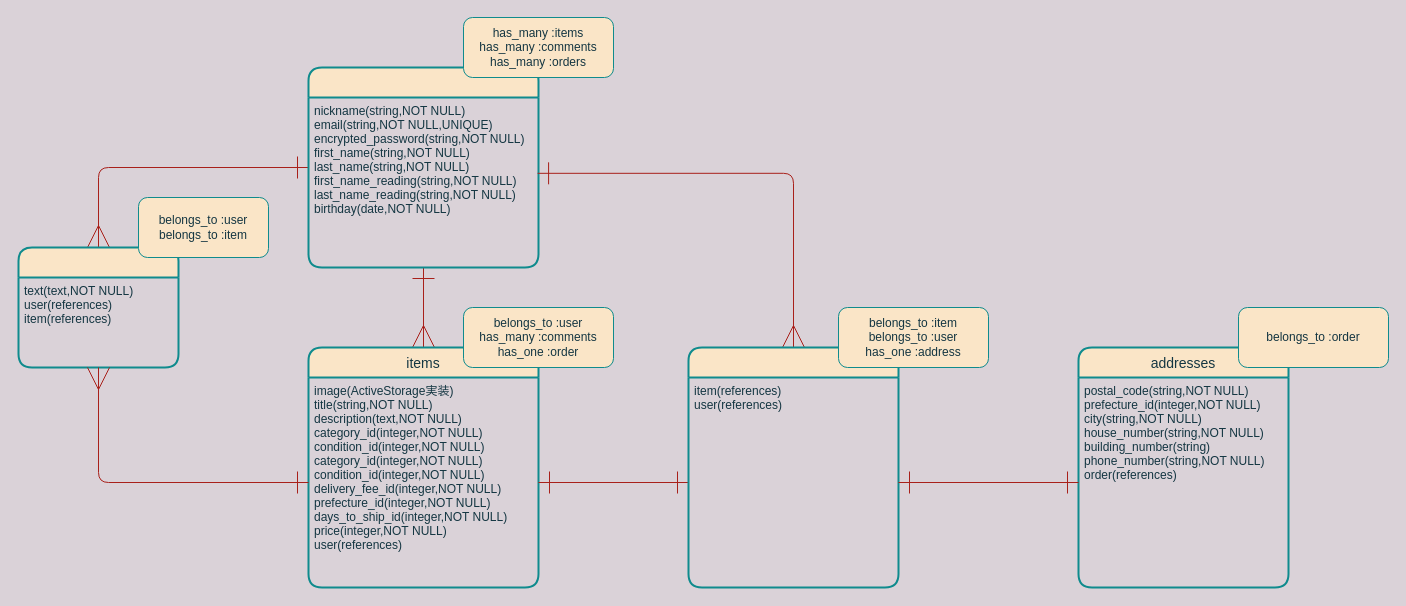
Some shapes in this 1406 by 606 pixel diagram are drawn without their labels. The shapes that lost their labels are listed below. From the top down, each one's box as (x1, y1, x2, y2) in pixels, then its label:
(307, 66, 539, 268): users
(17, 246, 179, 368): comments
(687, 346, 899, 588): orders
